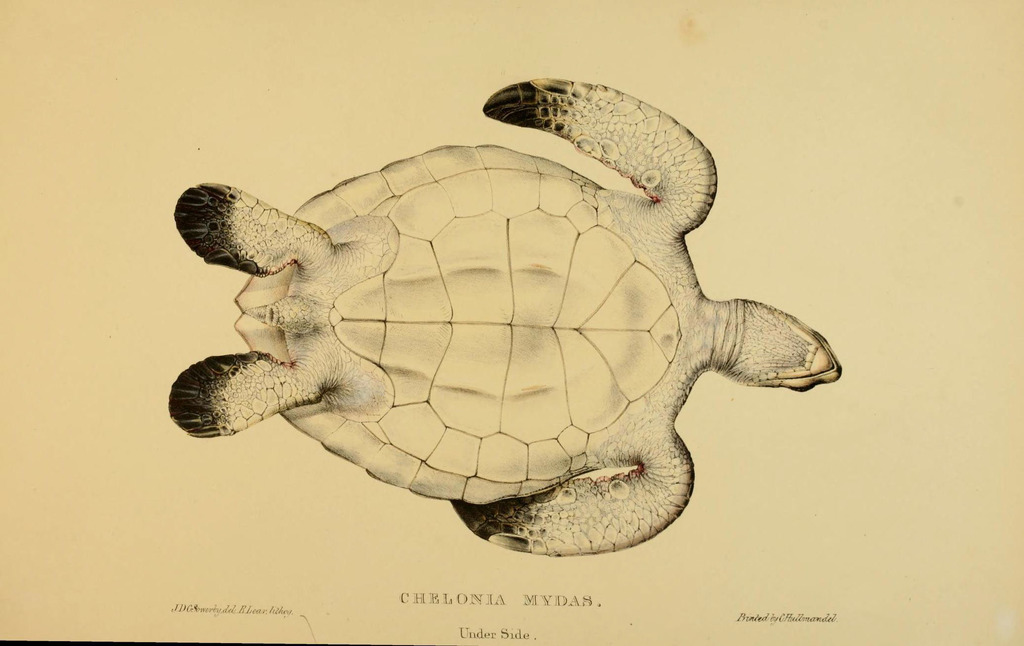Sea turtles: (160, 75, 839, 558)
